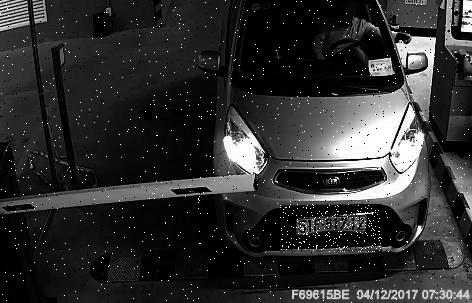License-plate: (281, 206, 383, 254)
